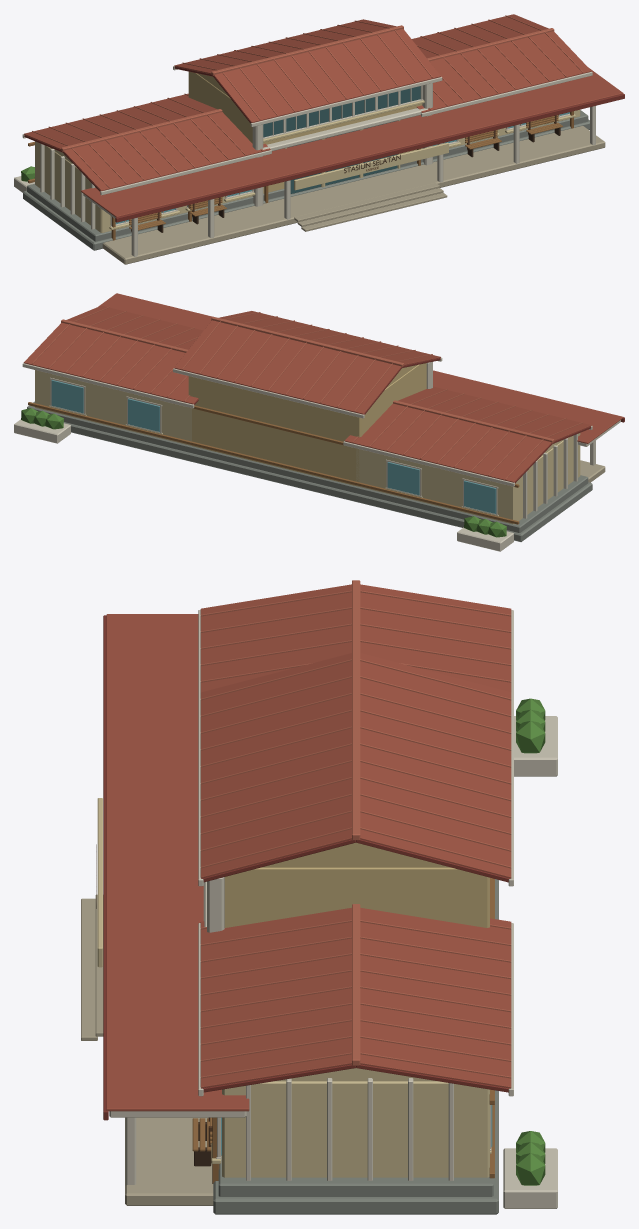
Rendered from station-selatan.glb.
3 views of the same model, one above another, from view 1: azimuth 30°, elevation 25°; view 2: azimuth 150°, elevation 25°; view 3: azimuth 270°, elevation 25° (orthographic). The views are drawn at different scales.
Parts seen in each view (by area): view 1: GEO-station-selatan.001; view 2: GEO-station-selatan.001; view 3: GEO-station-selatan.001.
Part boxes in pixels (x1,y1,x2,y2): GEO-station-selatan.001: (14,14,624,264); GEO-station-selatan.001: (14,293,624,551); GEO-station-selatan.001: (81,580,557,1214).
Bounding box in the file's own units: 33.3 × 7.22 × 13.53.
